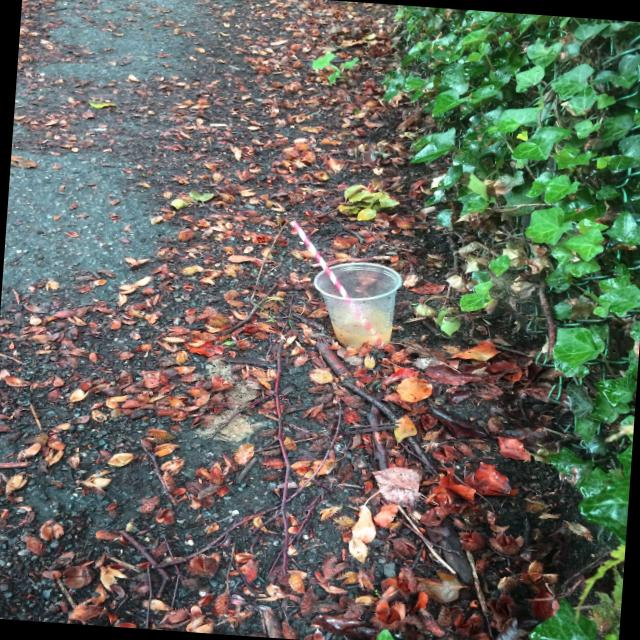less trash: (290, 220, 401, 348)
